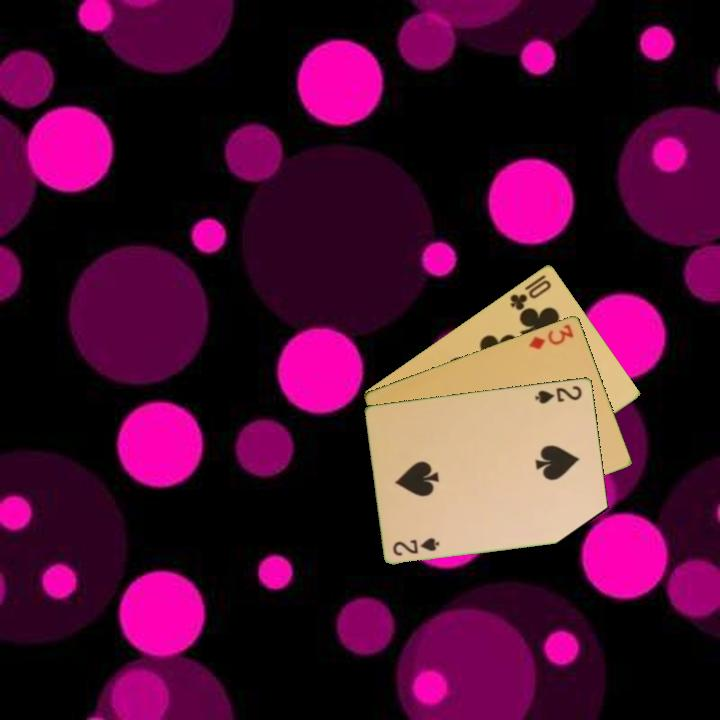10c: (506, 276, 554, 313)
2s: (531, 382, 585, 406), (390, 534, 442, 558)
3d: (525, 320, 577, 352)
